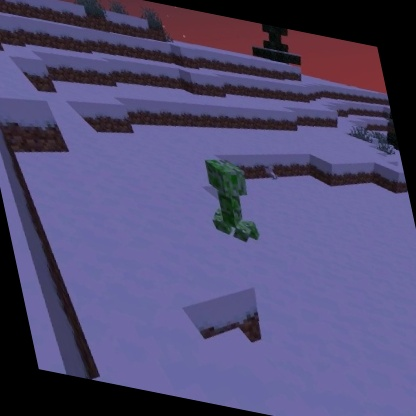creeper: (195, 152, 264, 248)
